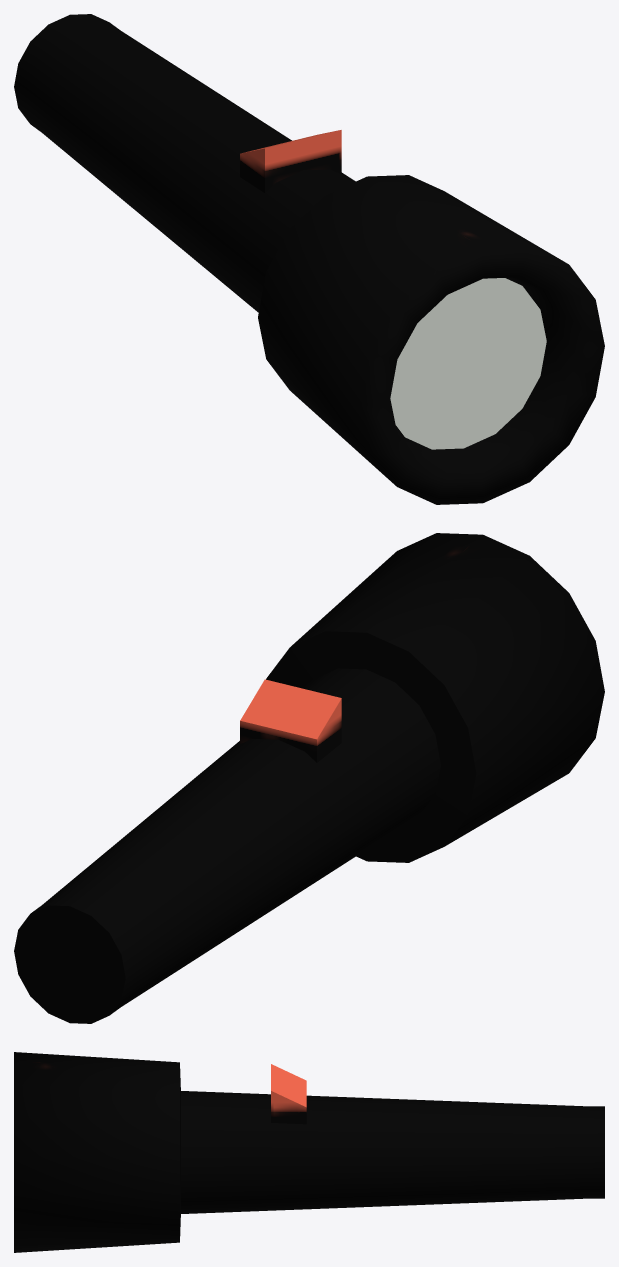
File: flashlight.glb
3 renders of one model, top to bottom at view 1: azimuth 30°, elevation 25°; view 2: azimuth 150°, elevation 25°; view 3: azimuth 270°, elevation 25°, orthographic. The views are drawn at different scales.
Parts seen in each view (by area): view 1: Flashlight; view 2: Flashlight; view 3: Flashlight.
Boxes of the visible parts, x1=… form: Flashlight: x1=14, y1=14, x2=604, y2=504; Flashlight: x1=14, y1=533, x2=604, y2=1023; Flashlight: x1=14, y1=1052, x2=604, y2=1252.
Bounding box in the file's own units: 3.23 × 3.23 × 9.48.
Materials: 2 (1 with a texture image).
